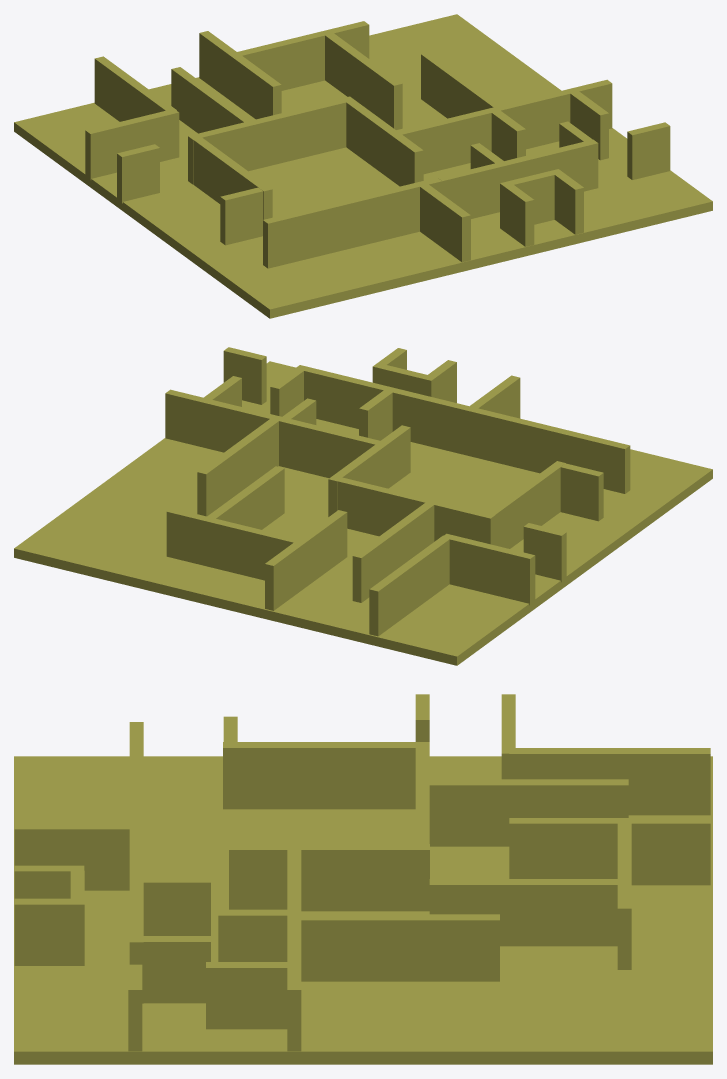
Rendered from Pyramide labirtint.fbx.
3 views of the same model, one above another, from view 1: azimuth 30°, elevation 25°; view 2: azimuth 150°, elevation 25°; view 3: azimuth 270°, elevation 25° (orthographic). The views are drawn at different scales.
Visible parts, largest first — view 1: pCube30; view 2: pCube30; view 3: pCube30.
Part boxes in pixels (x1,y1,x2,y2): pCube30: (14,14,712,318); pCube30: (14,347,712,665); pCube30: (14,694,712,1064).
Bounding box in the file's own units: 10.02 × 1.17 × 10.
